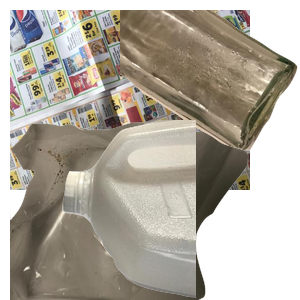glass: (120, 10, 300, 153)
paper: (10, 10, 250, 190)
plastic: (60, 120, 300, 300)
trash: (10, 120, 250, 300)
